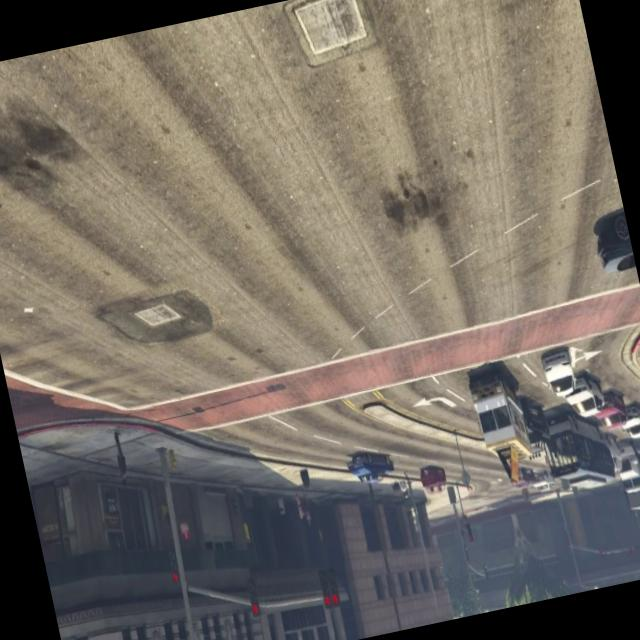Red-Signal: (308, 550, 350, 624), (158, 543, 189, 603), (237, 572, 267, 630)
